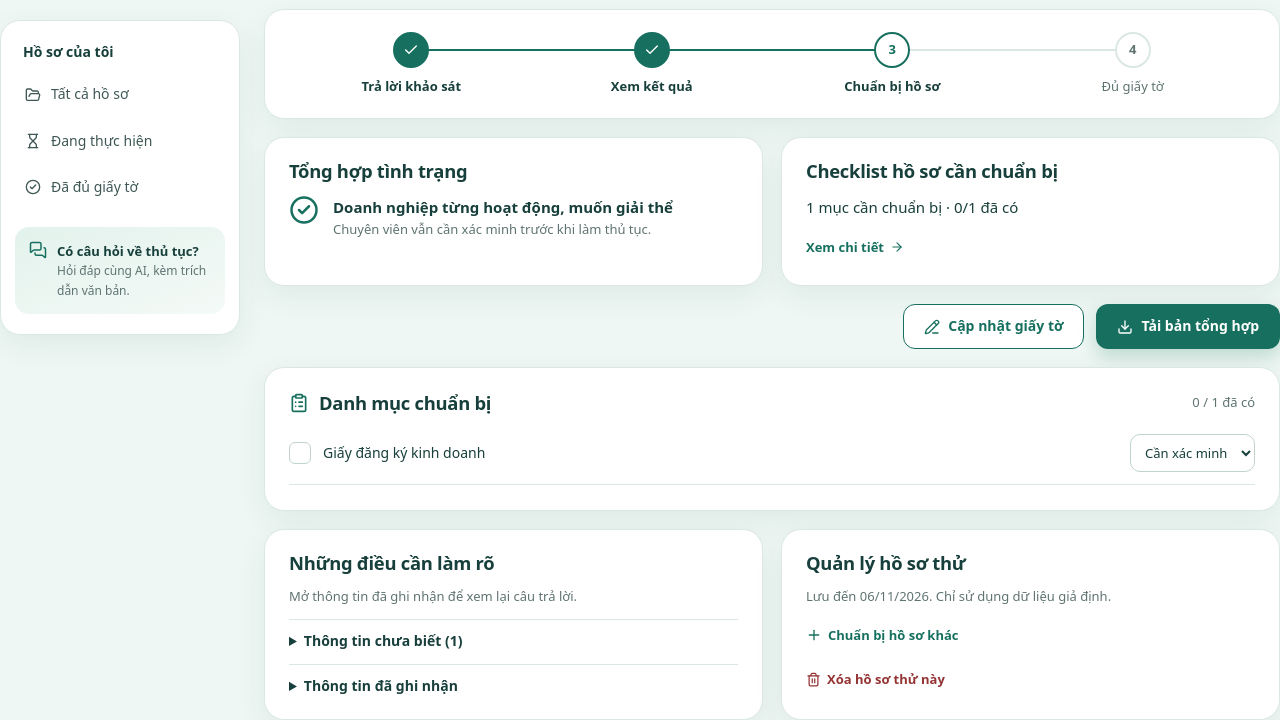
Scenario: Chuẩn bị hồ sơ khảo sát › giữ trang và báo lỗi khi xóa thất bại
(page scrolled)
Click the button "Xóa hồ sơ thử này".
click(886, 679)  # box 806,664 -> 1255,696
(page scrolled)
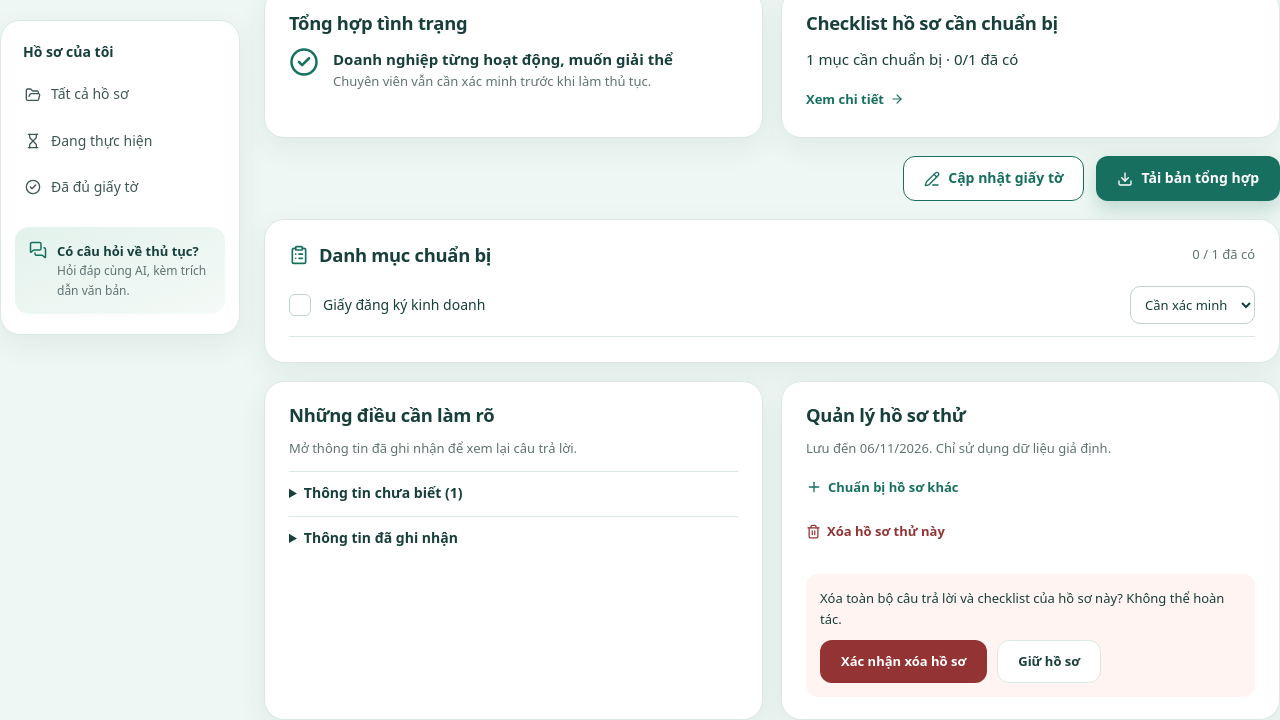
Click the button "Xác nhận xóa hồ sơ".
click(904, 661)  # box 820,640 -> 987,683
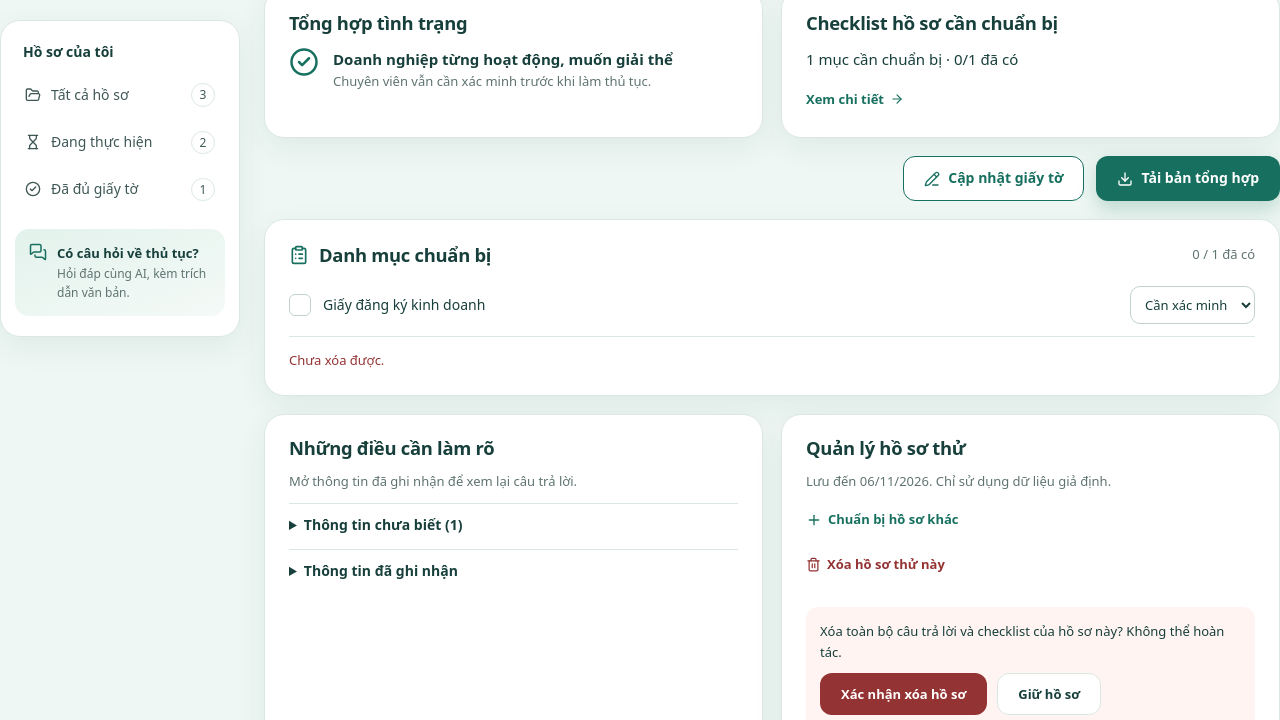
Expected: the message reads "Chưa xóa được.", 289,351 -> 384,369
